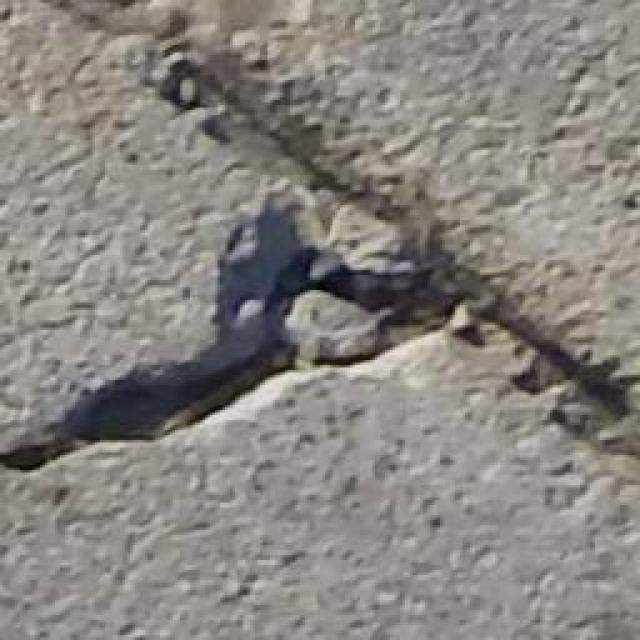concrete-crack: (2, 2, 640, 482)
